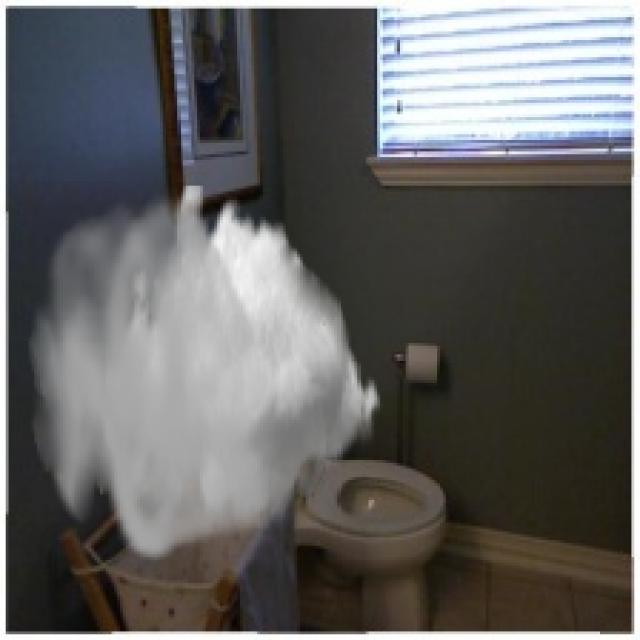smoke: (28, 185, 383, 566)
